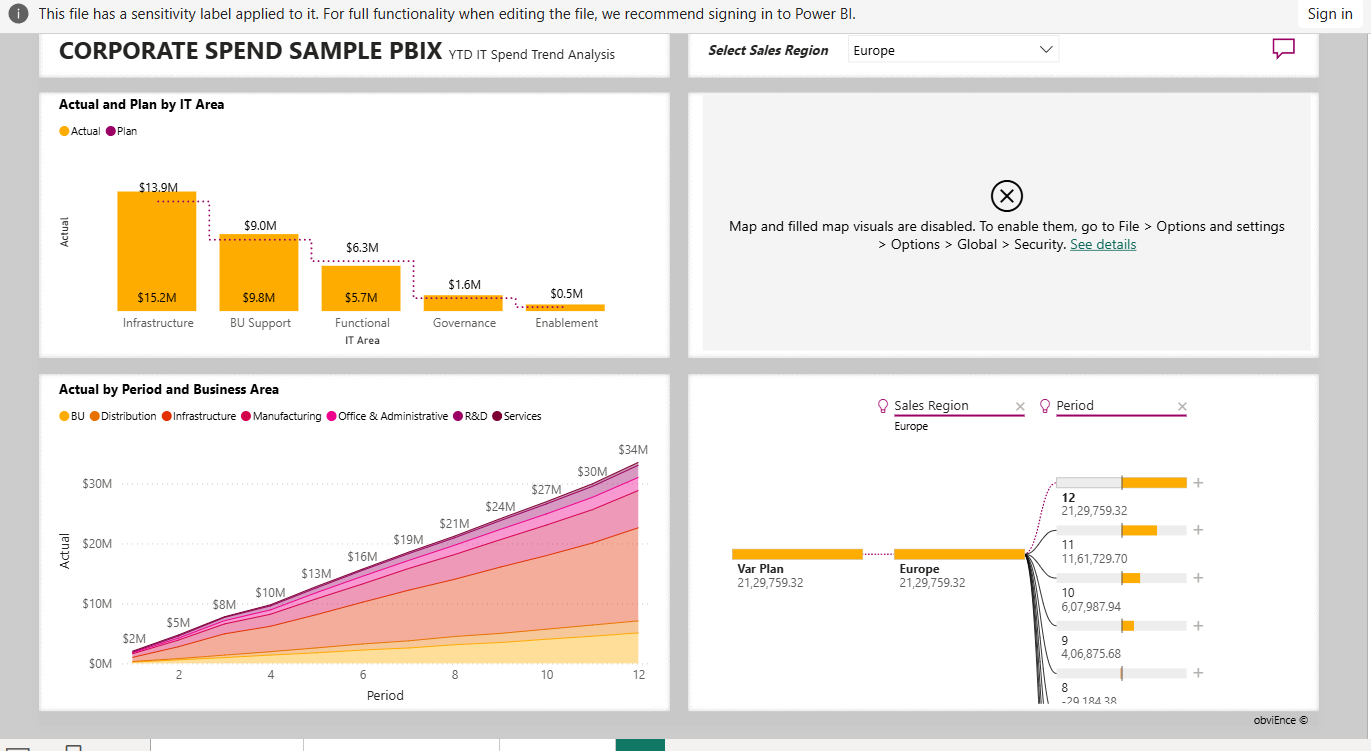

The dashboard page shown, as its layout file describes it:
{"tool":"powerbi","page":{"name":"IT Spend Trend","canvas":[1280,720],"ordinal":0},"visuals":[{"type":"basicShape","title":"Shape for mobile","box":[218.8,500,12,12],"z":0},{"type":"basicShape","title":"Shape for mobile","box":[219,500,12,12],"z":1000},{"type":"textbox","title":"SALES AND MARKETING","box":[14.9,22.9,584.6,50.1],"z":2000},{"type":"actionButton","box":[1215.8,22.9,56.3,41.3],"z":3000},{"type":"filledMap","fields":{"Category":["Country Region.Country/Region"]},"box":[663.7,88.8,608.4,255.8],"z":4000},{"type":"lineStackedColumnComboChart","fields":{"Category":["select","select1"],"Y":["Fact.Actual"],"Y2":["Fact.Plan"]},"box":[14.9,88.8,599.6,255.8],"z":5000},{"type":"slicer","fields":{"Values":["Country Region.Sales Region"]},"box":[799.1,19.3,231.2,49.2],"z":6000},{"type":"textbox","box":[663.7,29.9,145.1,36.9],"z":7000},{"type":"stackedAreaChart","fields":{"Category":["Date.Period"],"Series":["Business Area.Business Area"],"Y":["Fact.Actual"]},"box":[14.9,373.6,599.6,327.9],"z":8000},{"type":"decompositionTreeVisual","fields":{"Analyze":["Fact.Var Plan"],"ExplainBy":["Country Region.Sales Region","Date.Period","IT Area.IT Area","IT Area.IT Sub Area","Country Region.Country/Region"]},"box":[663.7,373.6,608.4,328.8],"z":9000},{"type":"actionButton","box":[1203.5,702.4,76.5,17.6],"z":10000}]}

Visuals, with their boxes on the page's 1280x720 design canvas (x1, y1, x2, y2). These are canvas units, not pixel positions in the 1371x751 screenshot, which may show the page scaled, cropped or inside an application window:
"Shape for mobile" basicShape: x1=219, y1=500, x2=231, y2=512
"Shape for mobile" basicShape: x1=219, y1=500, x2=231, y2=512
"SALES AND MARKETING" textbox: x1=15, y1=23, x2=600, y2=73
actionButton: x1=1216, y1=23, x2=1272, y2=64
filledMap - Country Region.Country/Region: x1=664, y1=89, x2=1272, y2=345
lineStackedColumnComboChart - select x select1: x1=15, y1=89, x2=614, y2=345
slicer - Country Region.Sales Region: x1=799, y1=19, x2=1030, y2=68
textbox: x1=664, y1=30, x2=809, y2=67
stackedAreaChart - Date.Period x Business Area.Business Area: x1=15, y1=374, x2=614, y2=702
decompositionTreeVisual - Fact.Var Plan x Country Region.Sales Region: x1=664, y1=374, x2=1272, y2=702
actionButton: x1=1204, y1=702, x2=1280, y2=720
